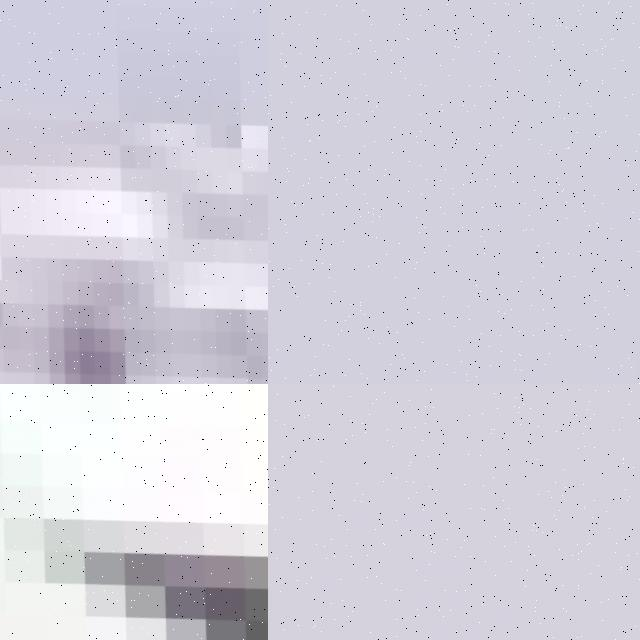0: (0, 0, 268, 384)
drone: (0, 384, 268, 640)
